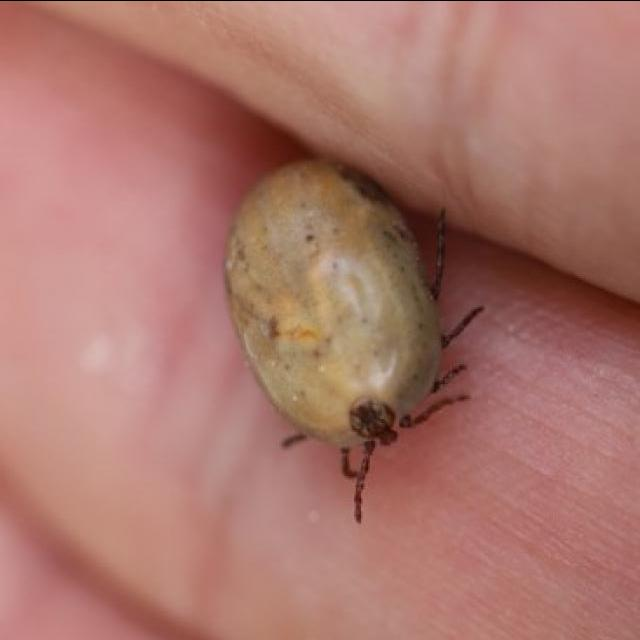Dermacentor Reticulatus-F-Fed: (223, 158, 487, 521)
